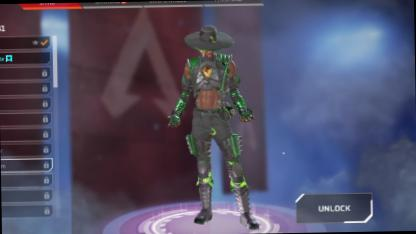Target: (177, 29, 243, 189)
